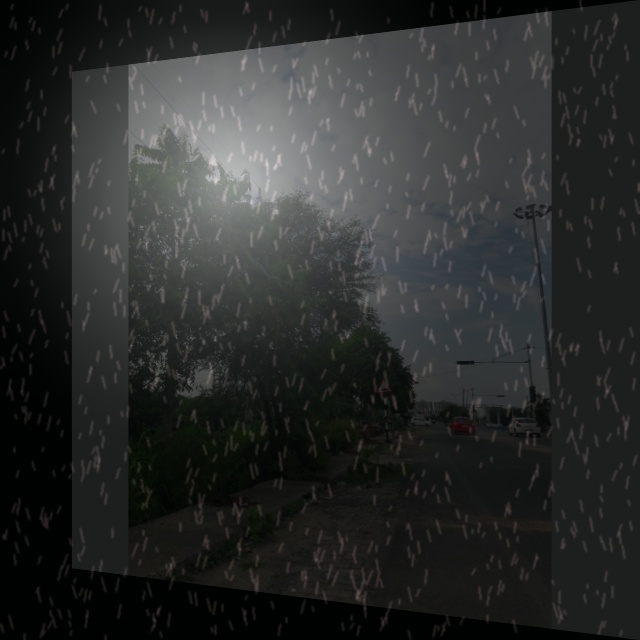Hump_or_Rough_Road: (372, 370, 394, 399)
